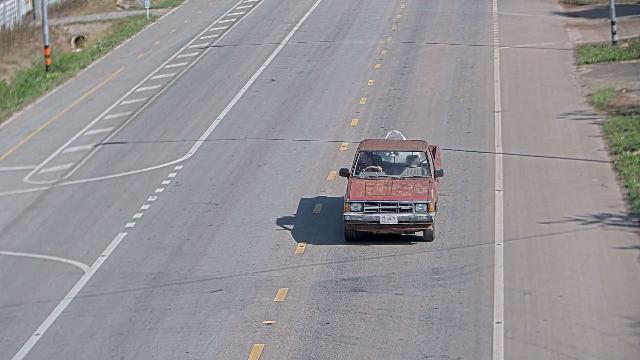pickup-truck: (338, 130, 444, 243)
